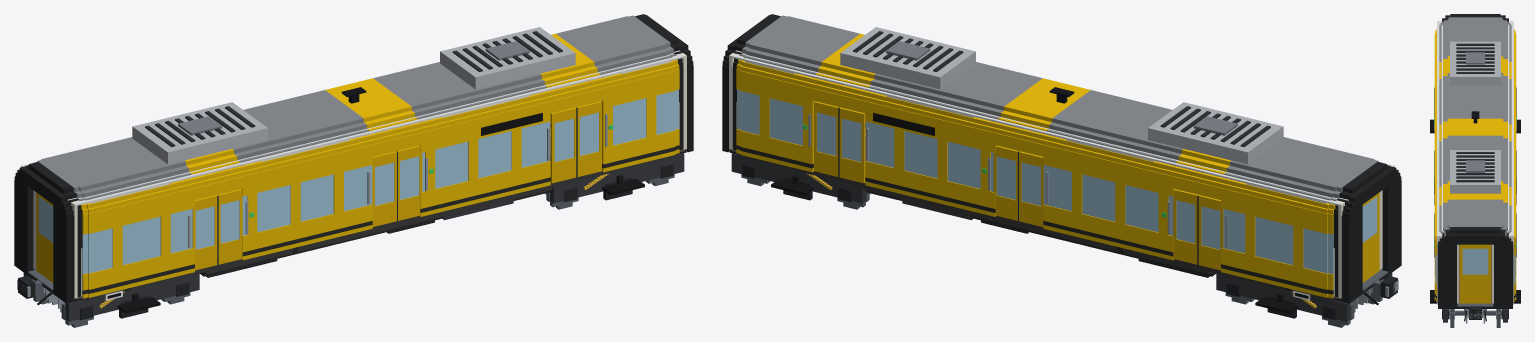
File: ginza1000_car.obj
The picture shows the model from 3 angles, left to right: view 1: azimuth 30°, elevation 25°; view 2: azimuth 150°, elevation 25°; view 3: azimuth 270°, elevation 25°; orthographic projection. The views are drawn at different scales.
Visible parts, largest first — view 1: SHELL, SHELL_roof, SHELL_diaphragm, SHELL_ceiling, BOGEY_FRONT, BOGEY_REAR, EXTERNAL_DOOR_16_CG_DR3_TOGGLE_TL_-0.59_X, EXTERNAL_DOOR_10_CG_DR2_TOGGLE_TL_-0.59_X, EXTERNAL_DOOR_4_CG_DR1_TOGGLE_TL_-0.59_X, EXTERNAL_DOOR_5_CG_DR1_TOGGLE_TL_0.59_X, EXTERNAL_DOOR_17_CG_DR3_TOGGLE_TL_0.59_X, EXTERNAL_DOOR_11_CG_DR2_TOGGLE_TL_0.59_X (+7 smaller); view 2: SHELL, SHELL_roof, SHELL_diaphragm, SHELL_ceiling, BOGEY_FRONT, BOGEY_REAR, EXTERNAL_DOOR_19_CG_DL3_TOGGLE_TL_-0.59_X, EXTERNAL_DOOR_13_CG_DL2_TOGGLE_TL_-0.59_X, EXTERNAL_DOOR_7_CG_DL1_TOGGLE_TL_-0.59_X, EXTERNAL_DOOR_8_CG_DL1_TOGGLE_TL_0.59_X, EXTERNAL_DOOR_20_CG_DL3_TOGGLE_TL_0.59_X, EXTERNAL_DOOR_14_CG_DL2_TOGGLE_TL_0.59_X (+7 smaller); view 3: SHELL, SHELL_roof, SHELL_diaphragm, SHELL_ceiling, CONNECTING_DOOR_2_CG_CF_TOGGLE_TL_0.98_Z, SHELL_end, BOGEY_FRONT, BOGEY_FRONT_WHEEL_2, FRAME, SHELL_handle, SHELL_gangway, BOGEY_REAR (+1 smaller).
Boxes of the visible parts, x1,y1,x2,y2 form: SHELL: (25,14,687,302); SHELL_roof: (132,27,575,164); SHELL_diaphragm: (14,15,693,303); SHELL_ceiling: (24,51,683,205); BOGEY_FRONT: (550,153,684,203); BOGEY_REAR: (23,273,199,321); EXTERNAL_DOOR_16_CG_DR3_TOGGLE_TL_-0.59_X: (550,107,577,183); EXTERNAL_DOOR_10_CG_DR2_TOGGLE_TL_-0.59_X: (372,151,397,226); EXTERNAL_DOOR_4_CG_DR1_TOGGLE_TL_-0.59_X: (192,195,218,270); EXTERNAL_DOOR_5_CG_DR1_TOGGLE_TL_0.59_X: (217,189,242,264); EXTERNAL_DOOR_17_CG_DR3_TOGGLE_TL_0.59_X: (576,101,601,176); EXTERNAL_DOOR_11_CG_DR2_TOGGLE_TL_0.59_X: (397,145,422,220); SHELL: (728,14,1390,302); SHELL_roof: (840,27,1283,164); SHELL_diaphragm: (722,15,1401,303); SHELL_ceiling: (731,51,1391,205); BOGEY_FRONT: (731,153,865,203); BOGEY_REAR: (1216,273,1392,321); EXTERNAL_DOOR_19_CG_DL3_TOGGLE_TL_-0.59_X: (838,107,865,183); EXTERNAL_DOOR_13_CG_DL2_TOGGLE_TL_-0.59_X: (1018,151,1043,226); EXTERNAL_DOOR_7_CG_DL1_TOGGLE_TL_-0.59_X: (1197,195,1223,270); EXTERNAL_DOOR_8_CG_DL1_TOGGLE_TL_0.59_X: (1173,189,1198,264); EXTERNAL_DOOR_20_CG_DL3_TOGGLE_TL_0.59_X: (814,101,839,176); EXTERNAL_DOOR_14_CG_DL2_TOGGLE_TL_0.59_X: (993,145,1018,220); SHELL: (1434,14,1516,304); SHELL_roof: (1450,41,1500,193); SHELL_diaphragm: (1438,15,1512,308); SHELL_ceiling: (1437,21,1513,235); CONNECTING_DOOR_2_CG_CF_TOGGLE_TL_0.98_Z: (1459,244,1491,303); SHELL_end: (1437,21,1513,303); BOGEY_FRONT: (1430,290,1520,322); BOGEY_FRONT_WHEEL_2: (1449,309,1501,327); FRAME: (1464,306,1486,321); SHELL_handle: (1434,87,1516,257); SHELL_gangway: (1457,302,1493,306); BOGEY_REAR: (1430,119,1520,133).
Size of the model in its own units: 17.24 by 3.86 by 2.84.
1 material, 1 textured.
